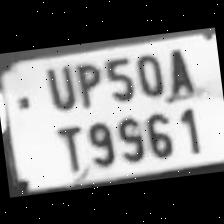0: (129, 47, 166, 100)
1: (172, 100, 207, 156)
5: (98, 51, 136, 105)
6: (140, 106, 176, 162)
9: (110, 109, 146, 165), (81, 114, 116, 168)
A: (158, 42, 200, 100)
P: (69, 56, 106, 112)
T: (48, 118, 86, 174)
U: (40, 58, 78, 112)
